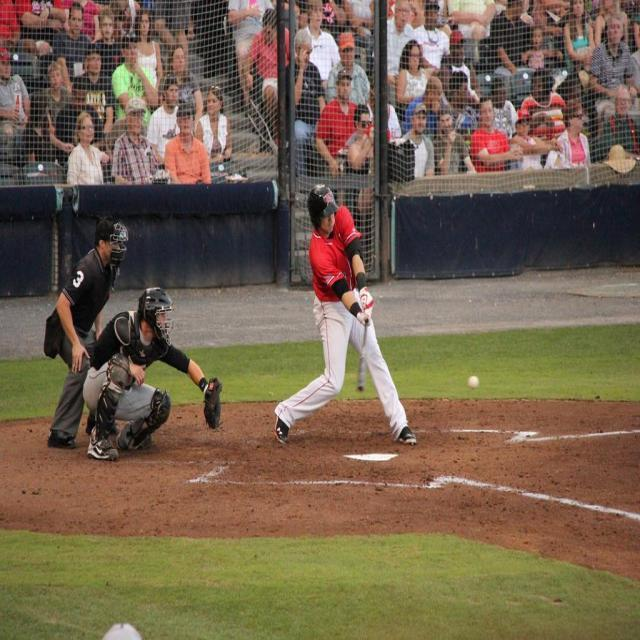ball: (468, 376, 479, 390)
bat: (356, 318, 370, 394)
